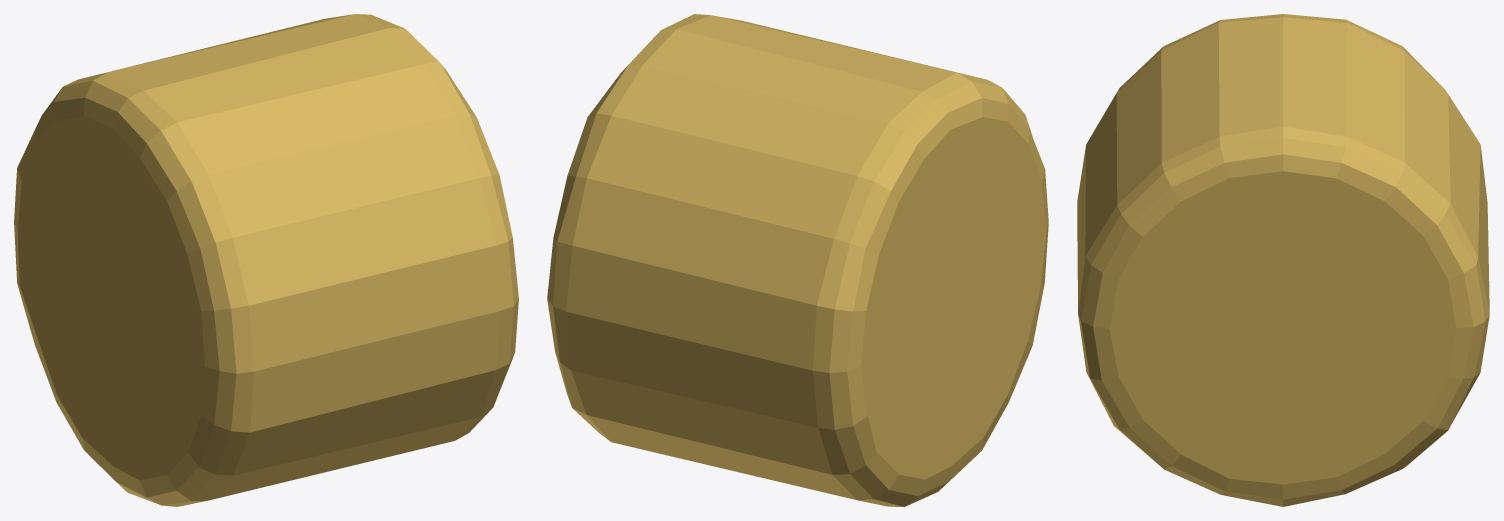
File: heuballen.glb
3 renders of one model, left to right at view 1: azimuth 30°, elevation 25°; view 2: azimuth 150°, elevation 25°; view 3: azimuth 270°, elevation 25°, orthographic. The views are drawn at different scales.
Parts seen in each view (by area): view 1: ballen; view 2: ballen; view 3: ballen.
Boxes of the visible parts, bbox=[...] form: ballen: bbox=[14, 14, 518, 506]; ballen: bbox=[547, 14, 1048, 506]; ballen: bbox=[1077, 14, 1489, 506].
Bounding box in the file's own units: 1.22 × 1.51 × 1.5.
